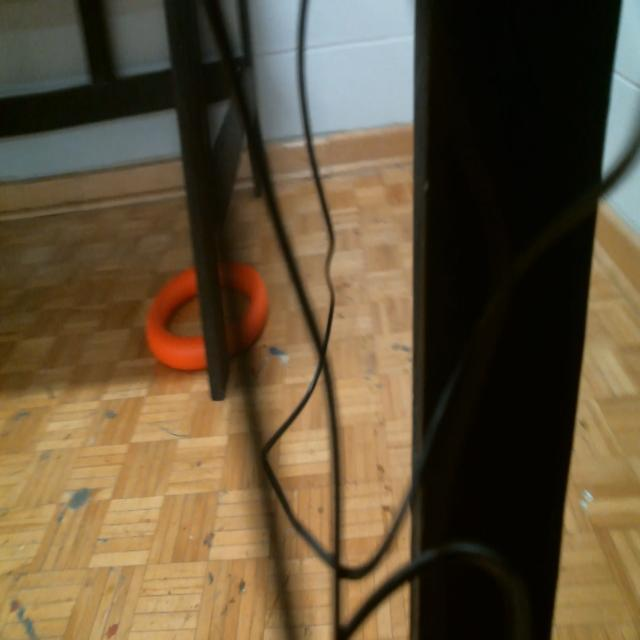note: (146, 257, 268, 374)
